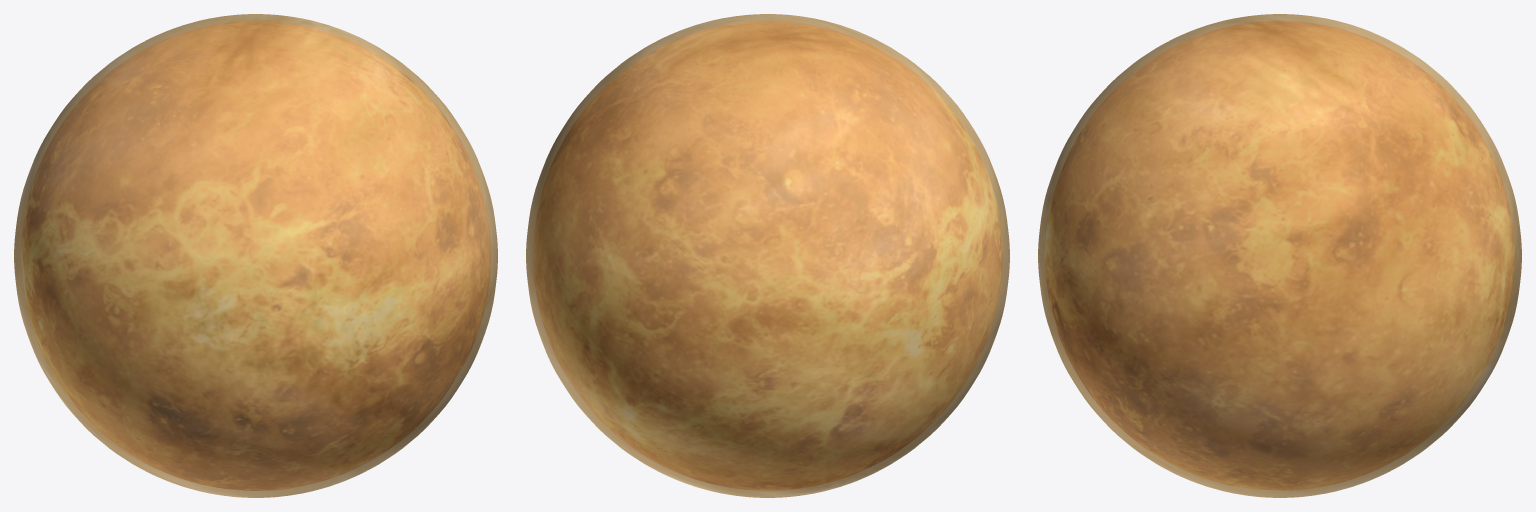
The model's file is venus.glb.
3 views of the same model, side by side, from view 1: azimuth 30°, elevation 25°; view 2: azimuth 150°, elevation 25°; view 3: azimuth 270°, elevation 25° (orthographic).
Parts seen in each view (by area): view 1: atmosphere_Material_0, venus_Material.001_0; view 2: atmosphere_Material_0, venus_Material.001_0; view 3: atmosphere_Material_0, venus_Material.001_0.
Boxes of the visible parts, left/top/right/bottom form: atmosphere_Material_0: left=14, top=14, right=497, bottom=497; venus_Material.001_0: left=21, top=21, right=490, bottom=490; atmosphere_Material_0: left=526, top=14, right=1009, bottom=497; venus_Material.001_0: left=533, top=21, right=1002, bottom=490; atmosphere_Material_0: left=1038, top=14, right=1521, bottom=497; venus_Material.001_0: left=1045, top=21, right=1514, bottom=490.
Size of the model in its own units: 26.73 by 26.74 by 26.73.
2 materials, 2 textured.
